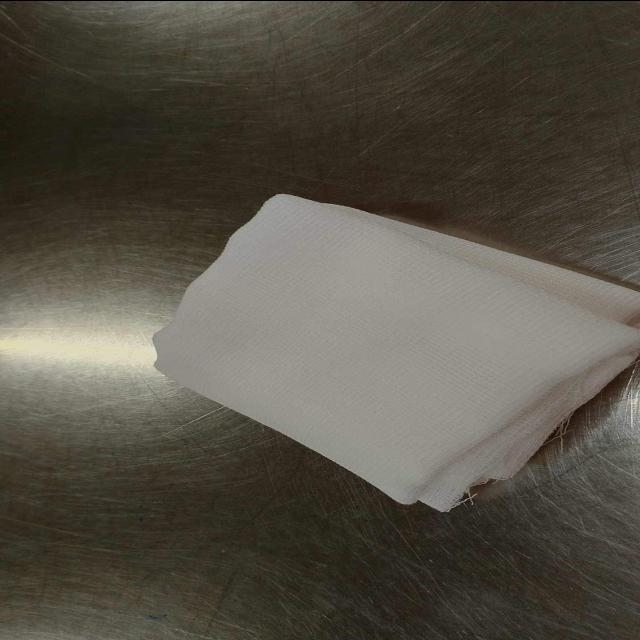Infectious: (149, 192, 638, 512)
Sharps: (153, 402, 235, 440)
